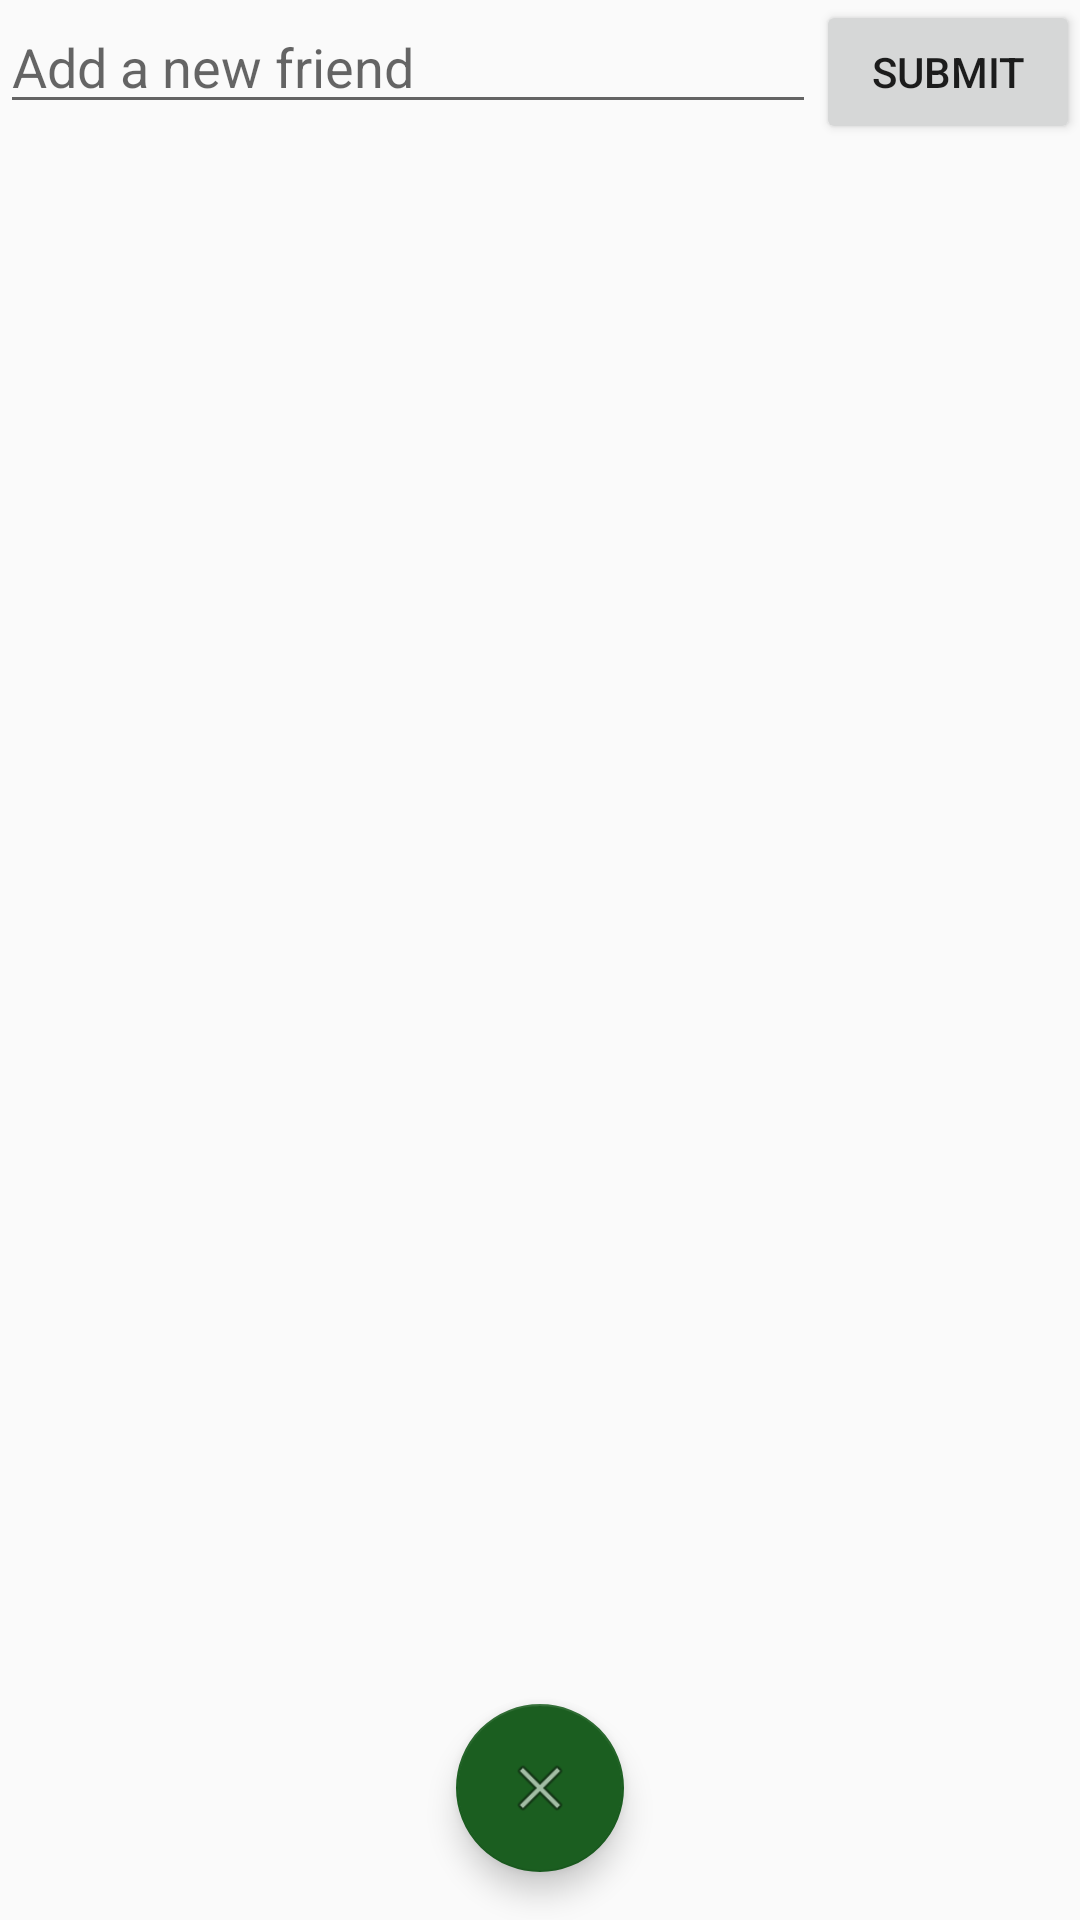

Icon click points for this 1080x1920 phone screenshot, format (x,y):
close clear cancel: (540,1788)
